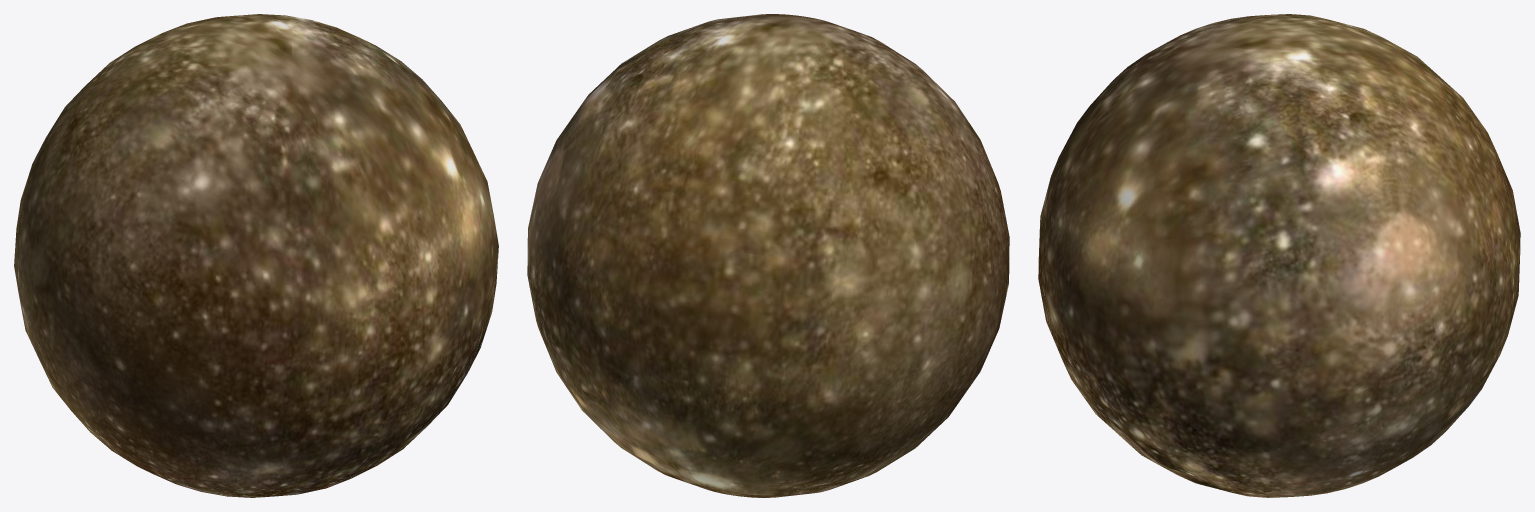
Rendered from jupiter_moon_1.obj.
The picture shows the model from 3 angles, left to right: view 1: azimuth 30°, elevation 25°; view 2: azimuth 150°, elevation 25°; view 3: azimuth 270°, elevation 25°; orthographic projection.
Parts seen in each view (by area): view 1: Callisto_Mesh.004; view 2: Callisto_Mesh.004; view 3: Callisto_Mesh.004.
Boxes of the visible parts, left/top/right/bottom form: Callisto_Mesh.004: left=14, top=14, right=498, bottom=497; Callisto_Mesh.004: left=527, top=14, right=1009, bottom=497; Callisto_Mesh.004: left=1038, top=14, right=1520, bottom=497.
Bounding box in the file's own units: 6.88 × 6.89 × 6.86.
1 material, 1 textured.
